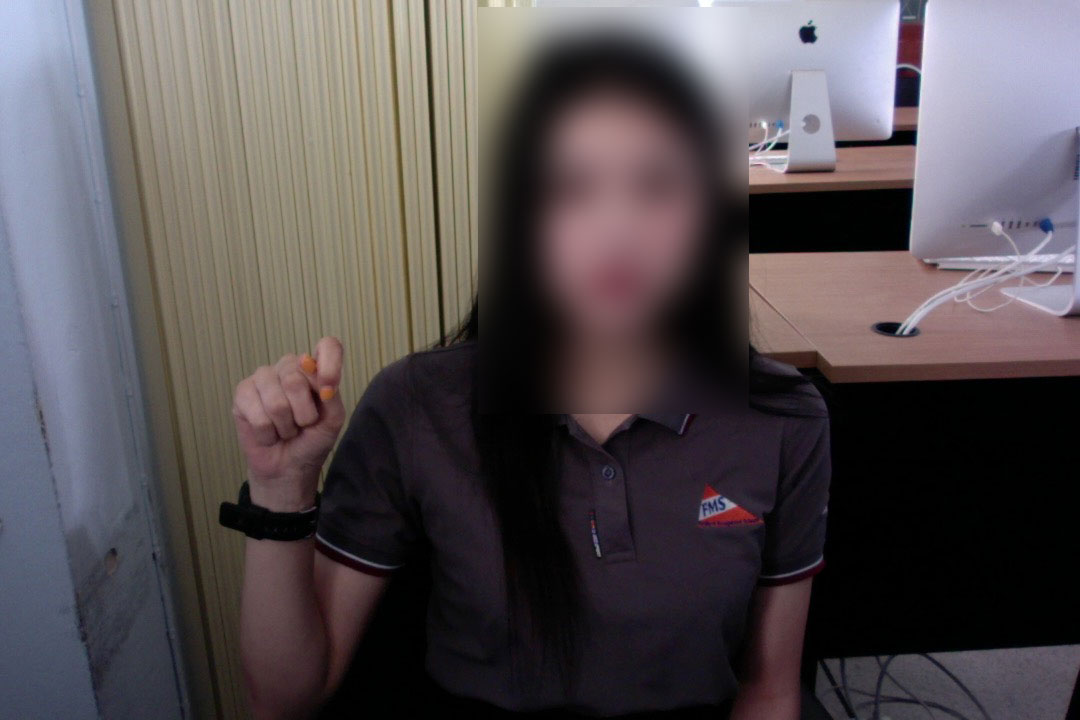tor: (227, 332, 348, 498)
